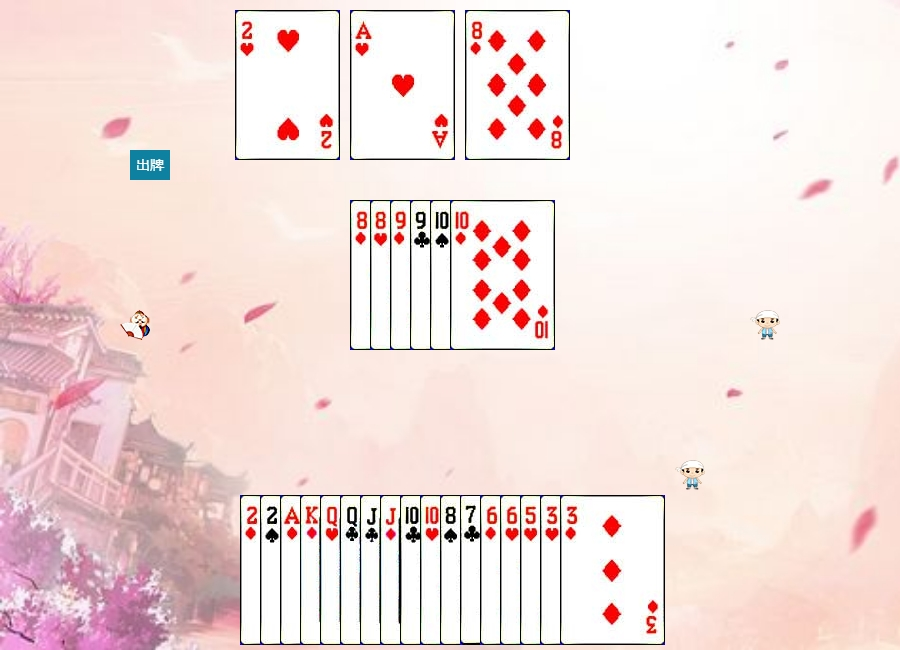10~1: (450, 200, 555, 350)
10~2: (400, 495, 505, 645)
10~3: (420, 495, 525, 645)
10~4: (430, 200, 535, 350)
11~1: (380, 495, 485, 645)
11~2: (360, 495, 465, 645)
12~2: (340, 495, 445, 645)
12~3: (320, 495, 425, 645)
13~1: (300, 495, 405, 645)
14~1: (280, 495, 385, 645)
14~3: (350, 10, 455, 160)
15~1: (240, 495, 345, 645)
15~3: (235, 10, 340, 160)
15~4: (260, 495, 365, 645)
3~1: (560, 495, 665, 645)
3~3: (540, 495, 645, 645)
5~3: (520, 495, 625, 645)
6~1: (480, 495, 585, 645)
6~3: (500, 495, 605, 645)
7~2: (460, 495, 565, 645)
8~1: (465, 10, 570, 160), (350, 200, 455, 350)
8~3: (370, 200, 475, 350)
8~4: (440, 495, 545, 645)
9~1: (390, 200, 495, 350)
9~2: (410, 200, 515, 350)
